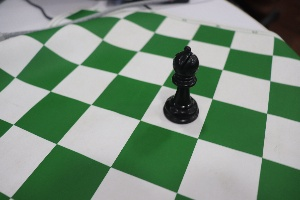black_bishop: (163, 42, 203, 127)
